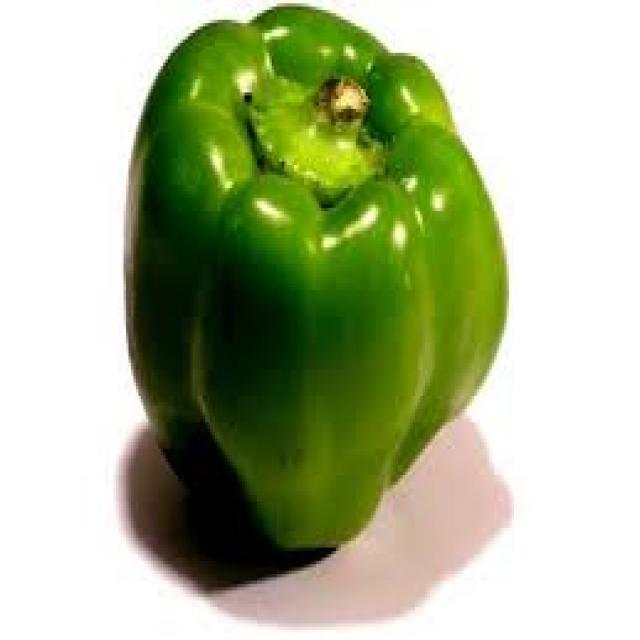Pepper: (123, 5, 510, 576)
